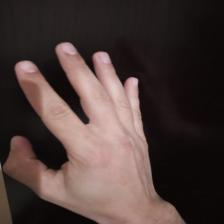five: (6, 42, 159, 204)
